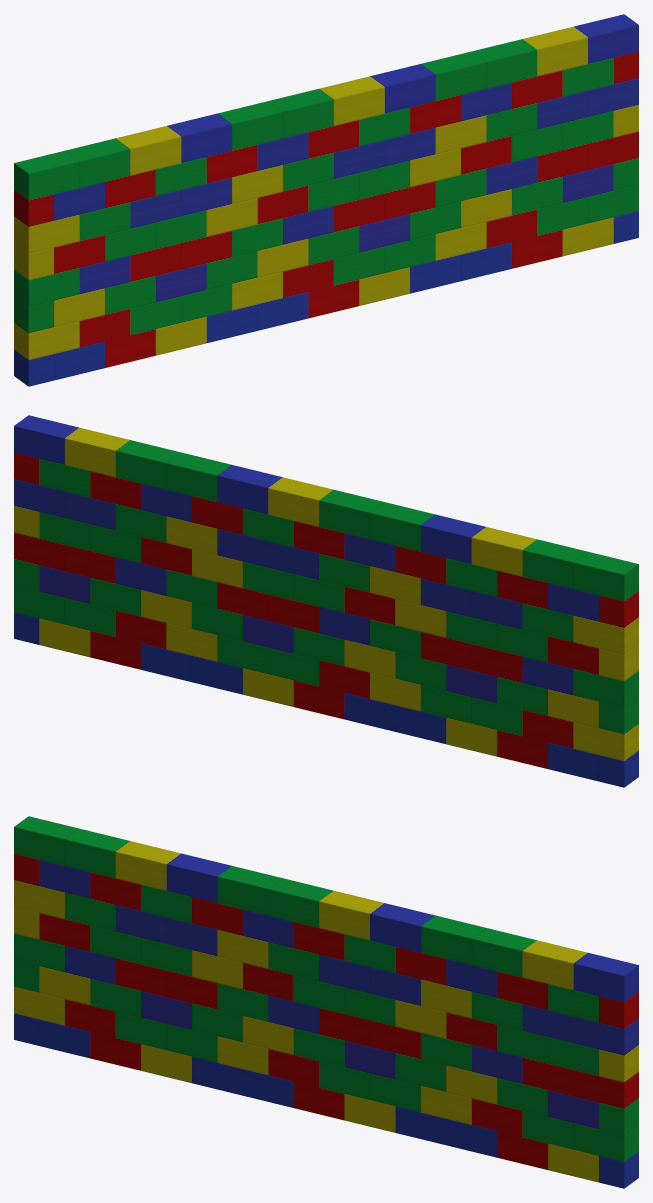
File: wall_Model.fbx
The picture shows the model from 3 angles, top to bottom: view 1: azimuth 30°, elevation 25°; view 2: azimuth 150°, elevation 25°; view 3: azimuth 330°, elevation 25°; orthographic projection.
Visible parts, largest first — view 1: Cube; view 2: Cube; view 3: Cube.
Part boxes in pixels (x1,y1,x2,y2): Cube: (14, 14, 638, 386); Cube: (14, 415, 638, 787); Cube: (14, 816, 638, 1188).
Size of the model in its own units: 240 by 80 by 10.
1 material, 1 textured.
